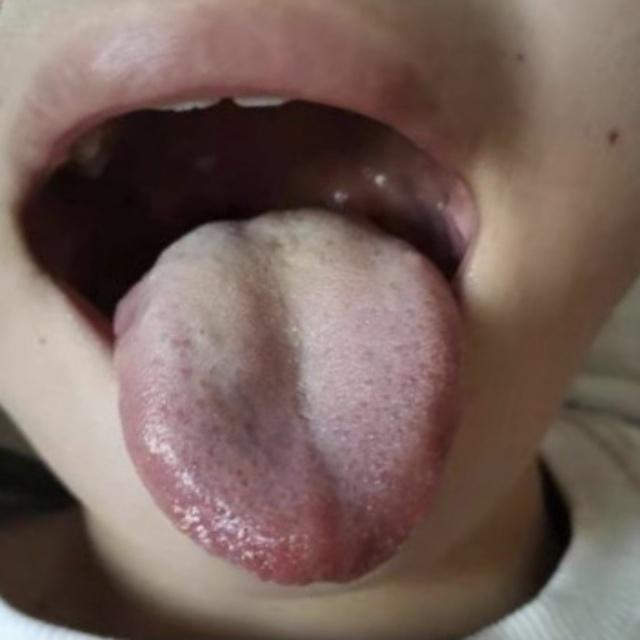baitaishe: (113, 207, 465, 586)
piweiao: (229, 326, 363, 477)
